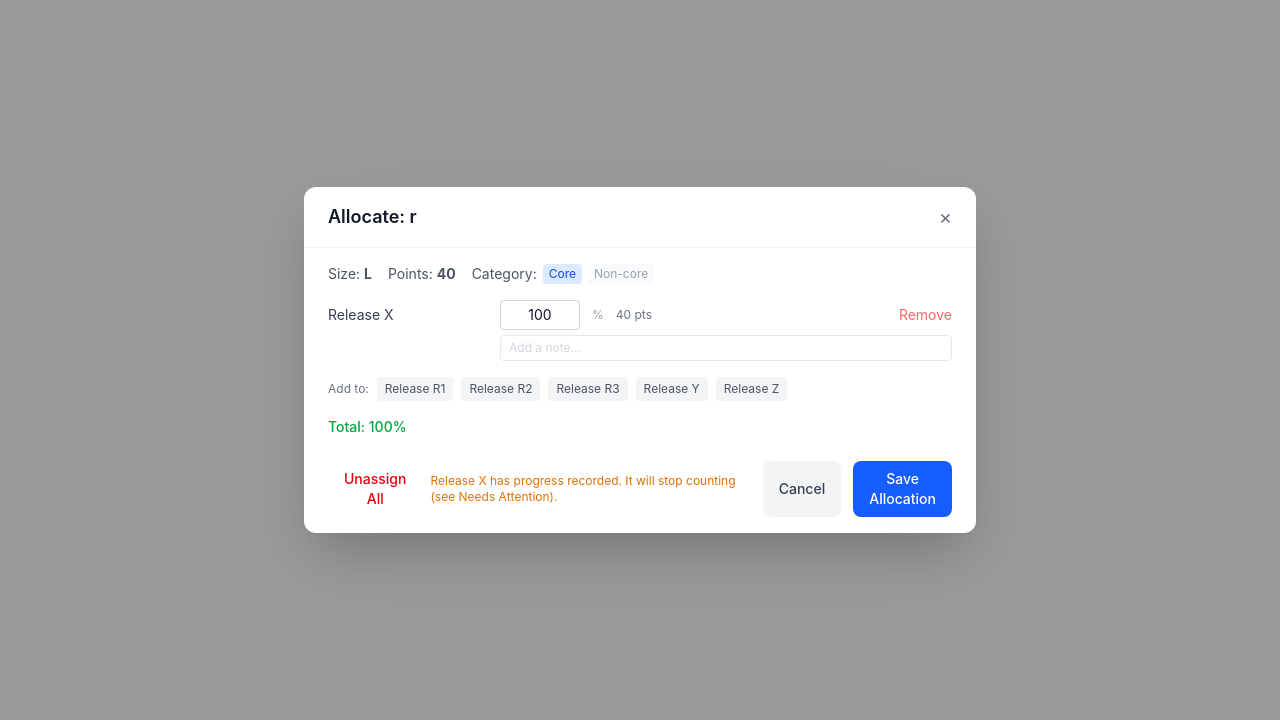
Test: AllocationModal warns before progress stops counting › names a move's target when the carried records exceed its percentage
Click the button "Remove": click(925, 315) [899,305,952,325]
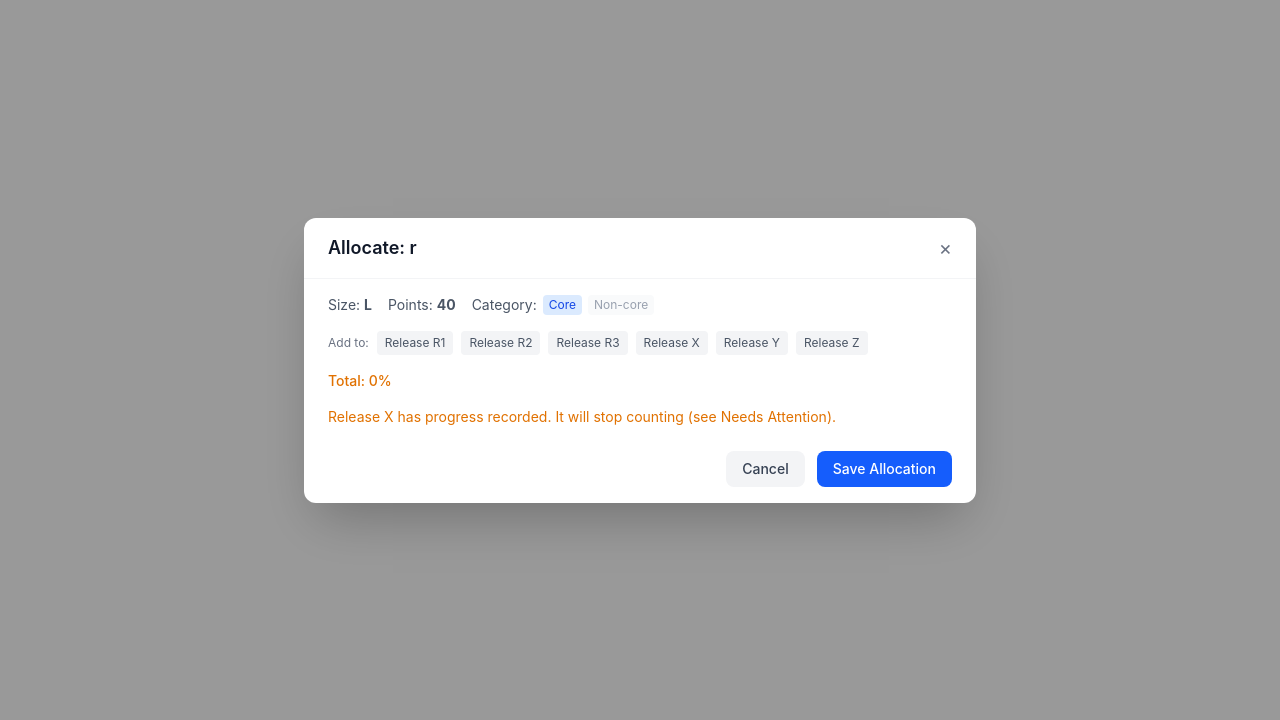
Click the button "Release Y": click(752, 342) [716,330,788,354]
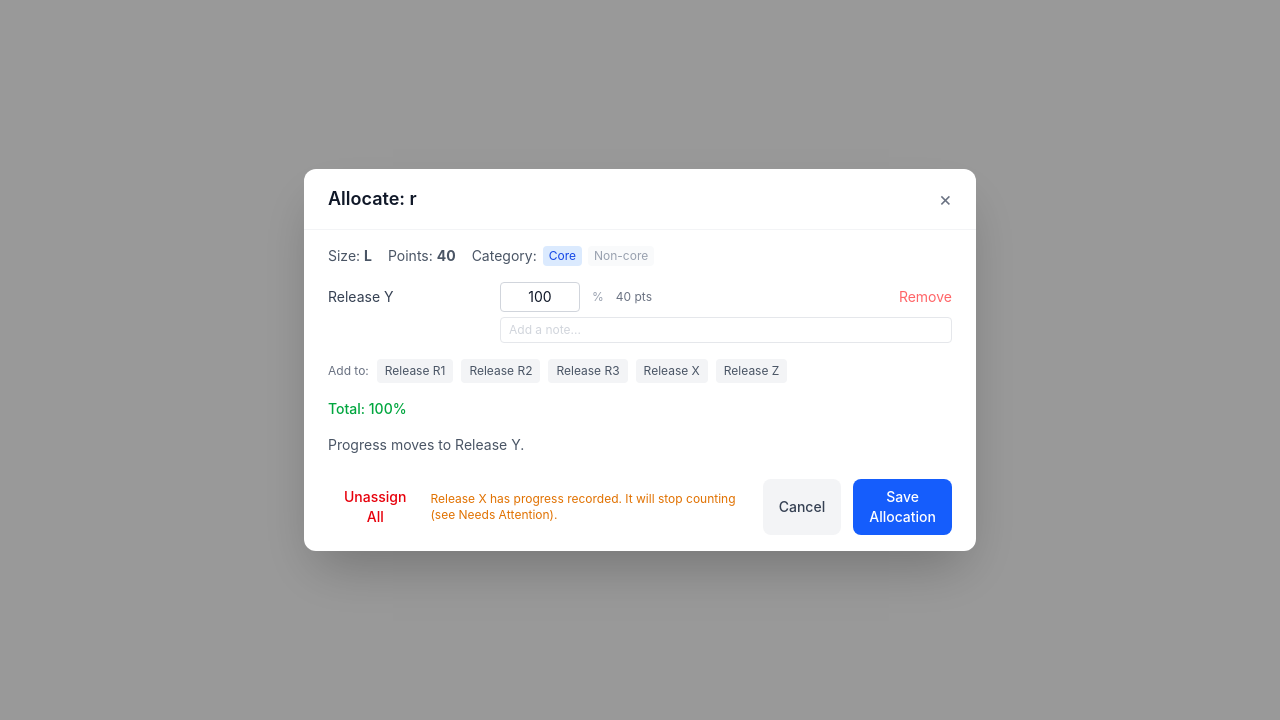
Check: the text "will count." is not shown
Check: the text "Progress moves to Release Y." is shown, box [328,436,524,453]
Replace the text in the number field with "50": (540, 297) [500,282,580,312]
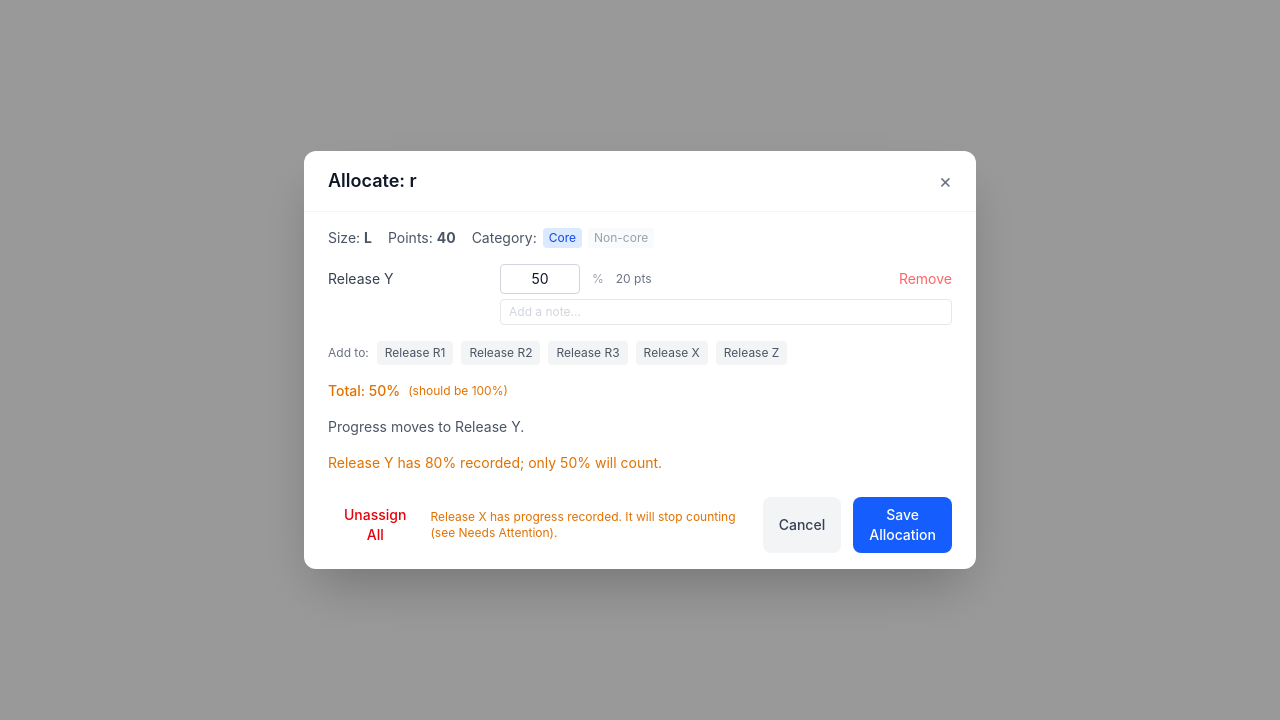
Check: the text "Release Y has 80% recorded; only 50% will count." is shown, box [328,454,662,471]
